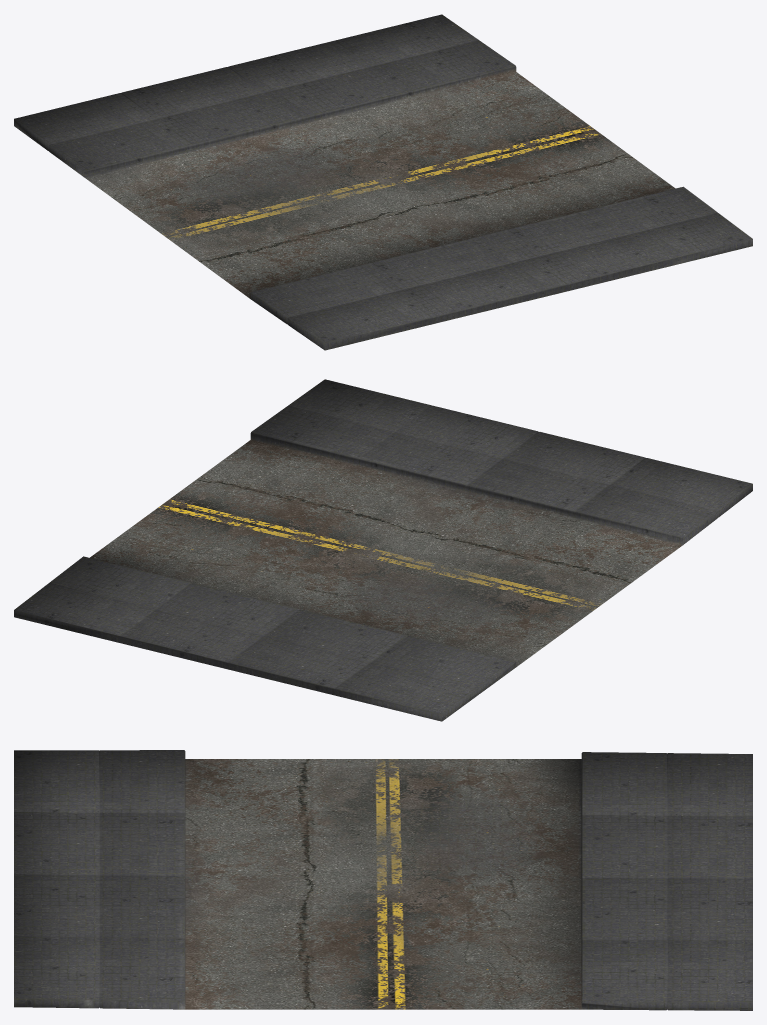
File: modular_street__pavement_wet_lp.glb
3 views of the same model, one above another, from view 1: azimuth 30°, elevation 25°; view 2: azimuth 150°, elevation 25°; view 3: azimuth 270°, elevation 25° (orthographic). The views are drawn at different scales.
Visible parts, largest first — view 1: Object_2; view 2: Object_2; view 3: Object_2.
Boxes of the visible parts, bbox=[...] form: Object_2: bbox=[14, 14, 752, 350]; Object_2: bbox=[14, 379, 752, 721]; Object_2: bbox=[14, 750, 752, 1010].
Size of the model in its own units: 2.99 by 0.0684 by 3.73.
1 material, 1 textured.
